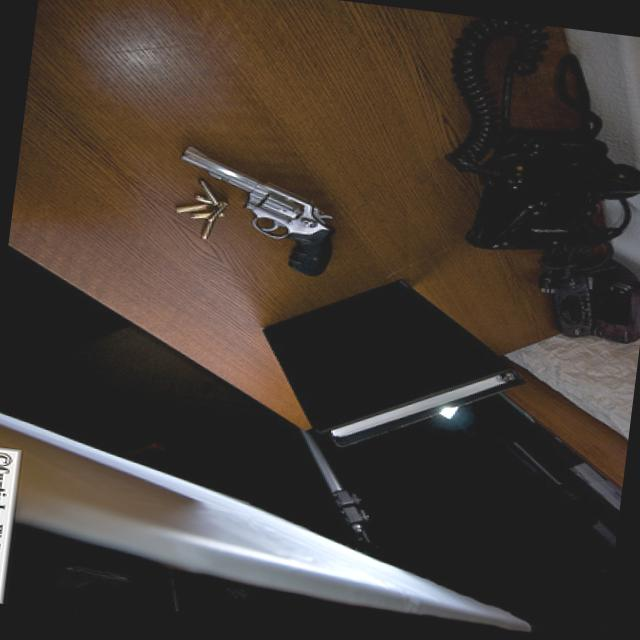handgun: (160, 135, 346, 275)
